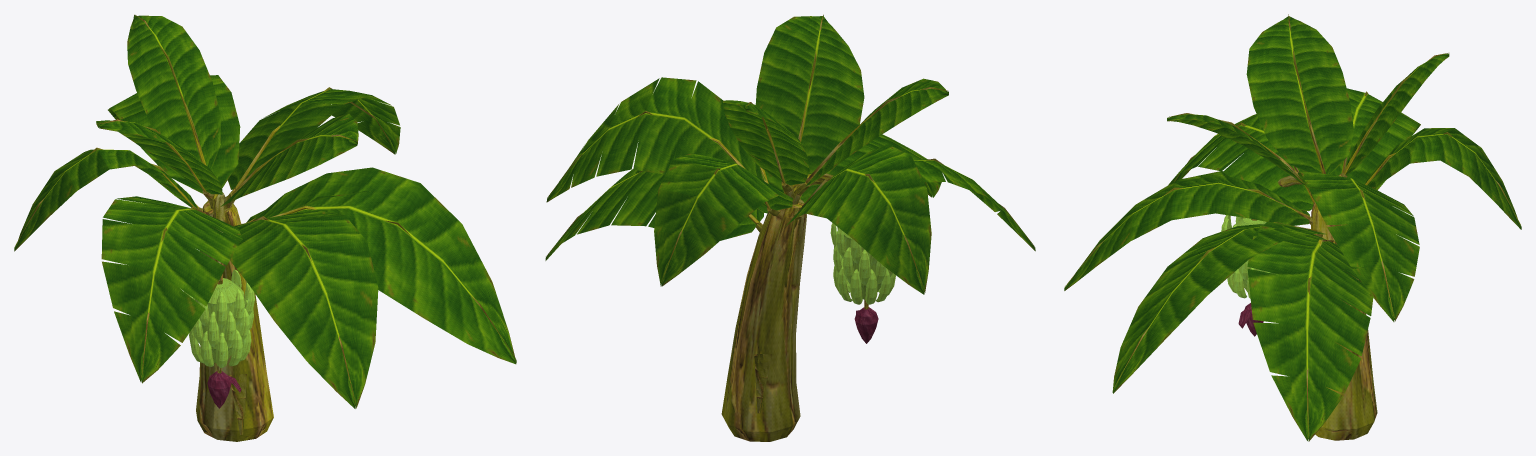
File: Bananeira-05-Assimetrica.glb
3 views of the same model, side by side, from view 1: azimuth 30°, elevation 25°; view 2: azimuth 150°, elevation 25°; view 3: azimuth 270°, elevation 25° (orthographic). The views are drawn at different scales.
Parts seen in each view (by area): view 1: Planta/Folha 2, Planta/Folha 3, Planta/Folha 4, Planta/Folha 10, Planta/Folha 7, Planta/Caule, Cacho/Cacho - pencas, Planta/Folha 5, Planta/Folha 8, Planta/Folha 6, Planta/Folha 9, Cacho/Coracao (+1 smaller); view 2: Planta/Caule, Planta/Folha 7, Planta/Folha 8, Planta/Folha 5, Planta/Folha 6, Planta/Folha 1, Planta/Folha 10, Planta/Folha 9, Cacho/Cacho - pencas, Planta/Folha 4, Planta/Folha 3, Planta/Caule bainhas (+1 smaller); view 3: Planta/Folha 1, Planta/Folha 9, Planta/Folha 7, Planta/Folha 2, Planta/Folha 3, Planta/Folha 6, Planta/Folha 4, Planta/Caule, Planta/Folha 5, Planta/Folha 10, Planta/Folha 8, Cacho/Cacho - pencas.
Part boxes in pixels (left/top/right/bottom): Planta/Folha 2: left=253, top=167, right=516, bottom=364; Planta/Folha 3: left=223, top=210, right=378, bottom=408; Planta/Folha 4: left=101, top=196, right=242, bottom=383; Planta/Folha 10: left=127, top=15, right=220, bottom=169; Planta/Folha 7: left=227, top=89, right=400, bottom=189; Planta/Caule: left=196, top=200, right=273, bottom=441; Cacho/Cacho - pencas: left=184, top=269, right=254, bottom=367; Planta/Folha 5: left=14, top=149, right=197, bottom=251; Planta/Folha 8: left=220, top=114, right=358, bottom=206; Planta/Folha 6: left=108, top=75, right=240, bottom=193; Planta/Folha 9: left=96, top=120, right=222, bottom=194; Cacho/Coracao: left=207, top=371, right=231, bottom=408; Planta/Caule: left=721, top=199, right=806, bottom=441; Planta/Folha 7: left=546, top=77, right=763, bottom=202; Planta/Folha 8: left=755, top=15, right=864, bottom=173; Planta/Folha 5: left=785, top=144, right=931, bottom=294; Planta/Folha 6: left=654, top=153, right=792, bottom=286; Planta/Folha 1: left=545, top=148, right=765, bottom=260; Planta/Folha 10: left=723, top=100, right=809, bottom=185; Planta/Folha 9: left=805, top=78, right=948, bottom=186; Cacho/Cacho - pencas: left=830, top=223, right=895, bottom=304; Planta/Folha 4: left=913, top=158, right=1035, bottom=251; Planta/Folha 3: left=768, top=134, right=941, bottom=203; Planta/Caule bainhas: left=754, top=354, right=771, bottom=413; Planta/Folha 1: left=1247, top=221, right=1373, bottom=441; Planta/Folha 9: left=1246, top=16, right=1353, bottom=174; Planta/Folha 7: left=1298, top=171, right=1419, bottom=321; Planta/Folha 2: left=1112, top=224, right=1326, bottom=393; Planta/Folha 3: left=1064, top=171, right=1309, bottom=290; Planta/Folha 6: left=1364, top=128, right=1521, bottom=229; Planta/Folha 4: left=1168, top=114, right=1313, bottom=211; Planta/Caule: left=1311, top=201, right=1377, bottom=440; Planta/Folha 5: left=1329, top=88, right=1420, bottom=190; Planta/Folha 10: left=1345, top=53, right=1449, bottom=175; Planta/Folha 8: left=1167, top=114, right=1304, bottom=185; Cacho/Cacho - pencas: left=1221, top=215, right=1277, bottom=298.
Bounding box in the file's own units: 3.95 × 3.35 × 3.9.
Materials: 4 (4 with a texture image).
